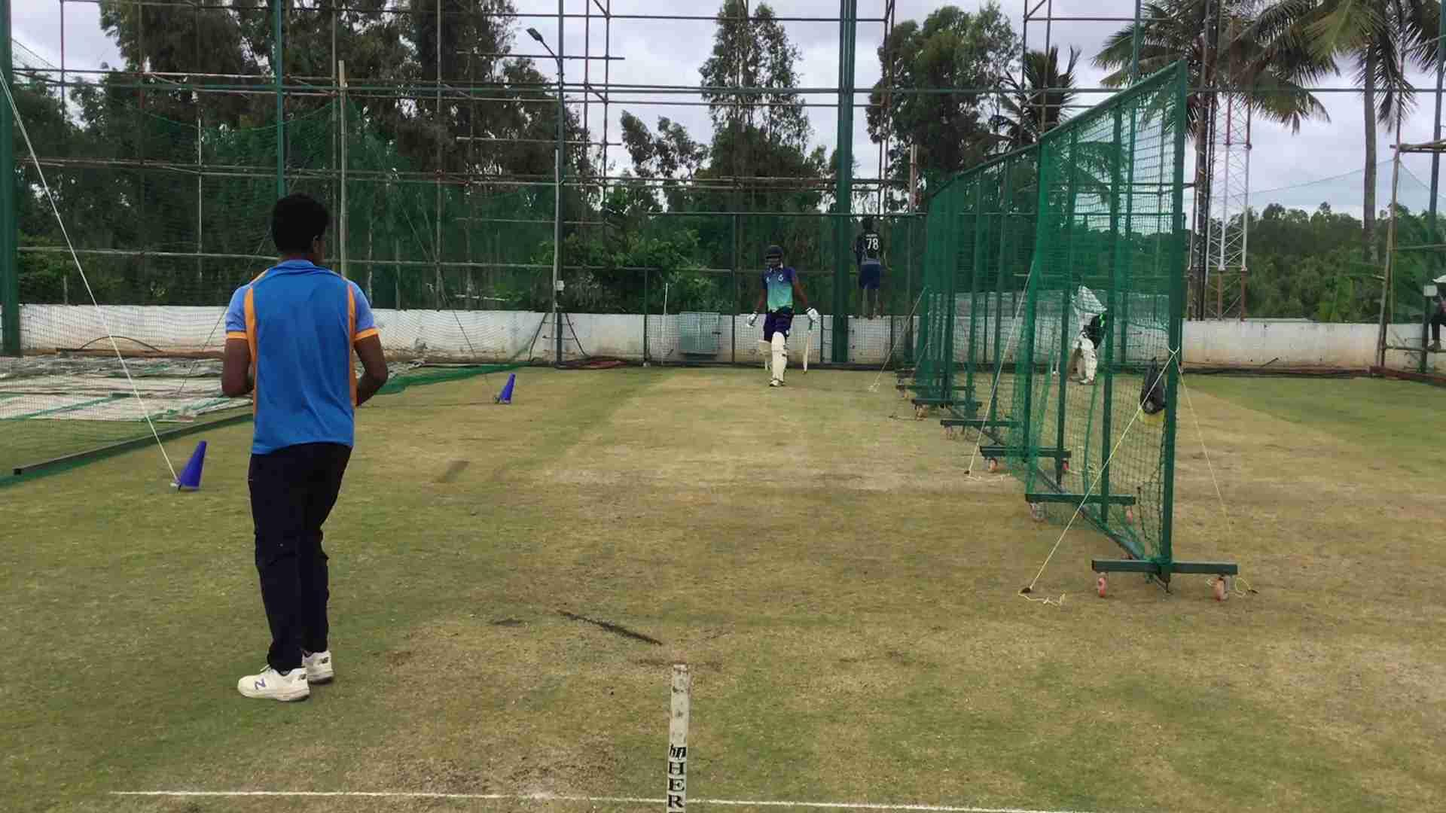batsman: (738, 234, 817, 390)
